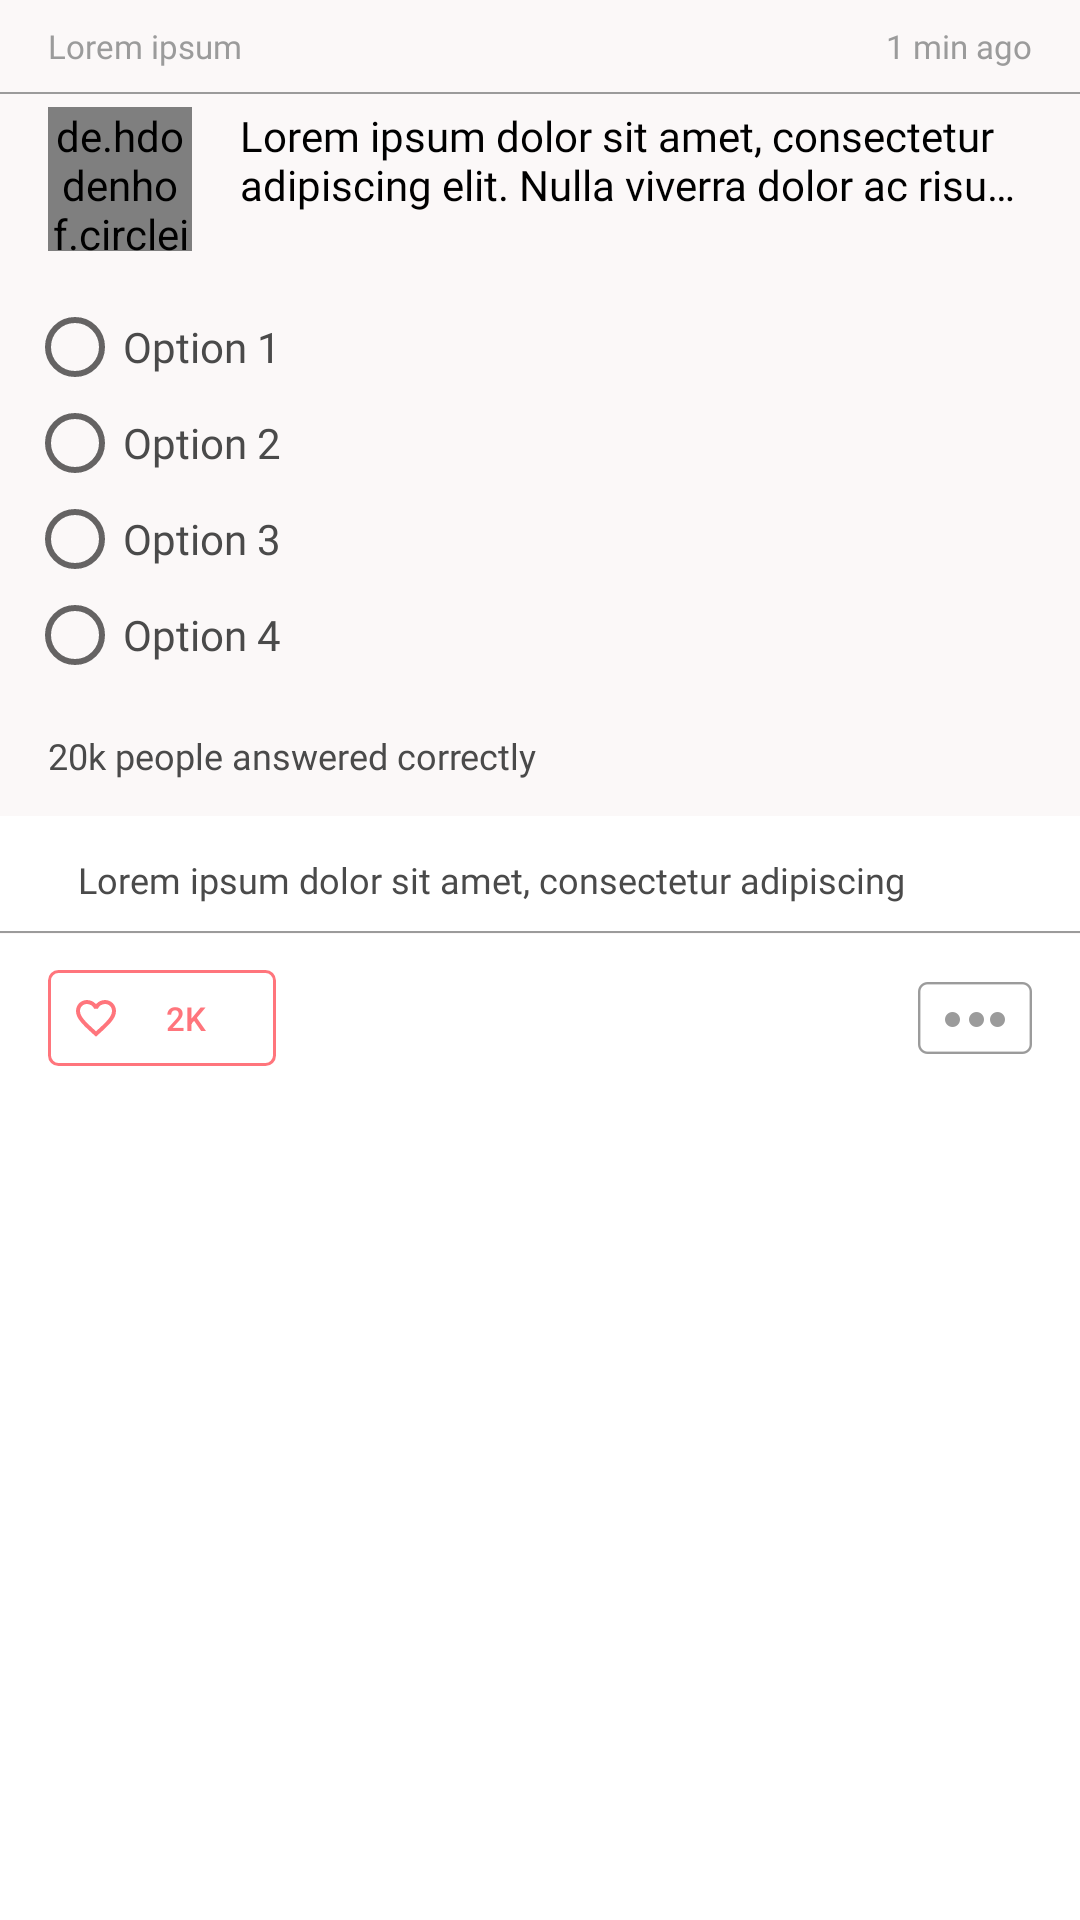

Icon click points for this 1080 x 1920 phone screenshot, format (x,y):
menu: (975,1018)
